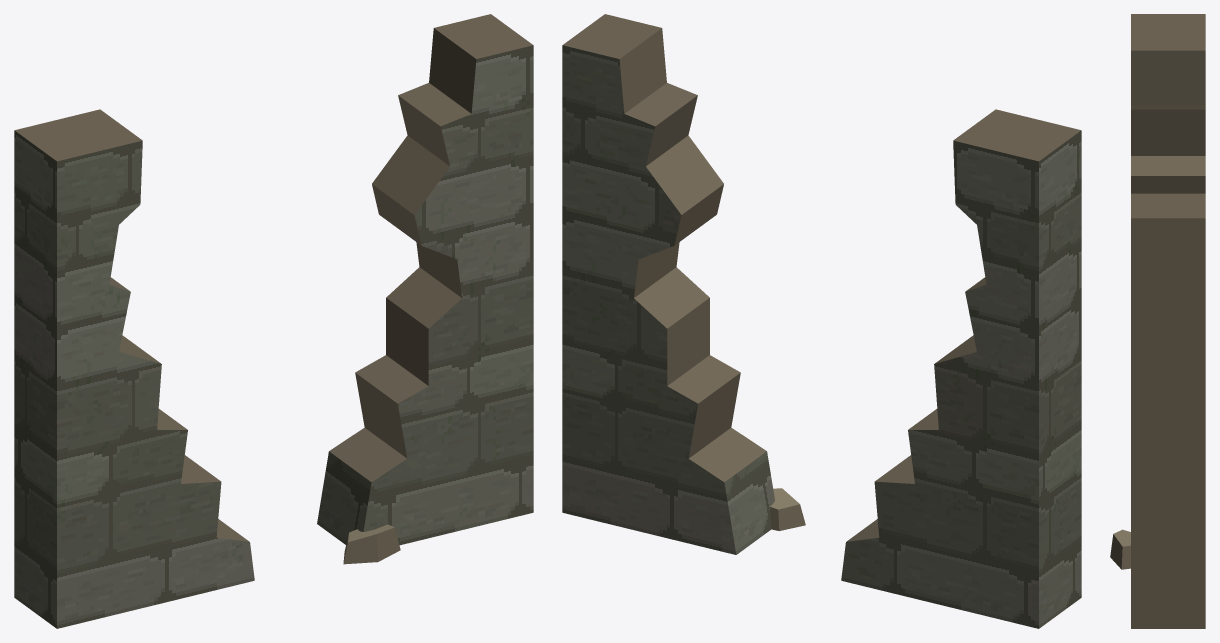
The model's file is breached_wall.glb.
3 renders of one model, left to right at view 1: azimuth 30°, elevation 25°; view 2: azimuth 150°, elevation 25°; view 3: azimuth 270°, elevation 25°, orthographic. The views are drawn at different scales.
Parts seen in each view (by area): view 1: Breached wall; view 2: Breached wall; view 3: Breached wall.
Boxes of the visible parts, box(x1,y1,x2,y2) form: Breached wall: box(14, 14, 533, 628); Breached wall: box(562, 14, 1081, 628); Breached wall: box(1110, 14, 1205, 628).
Size of the model in its own units: 2 by 1.88 by 0.3957.
3 materials, 1 textured.
